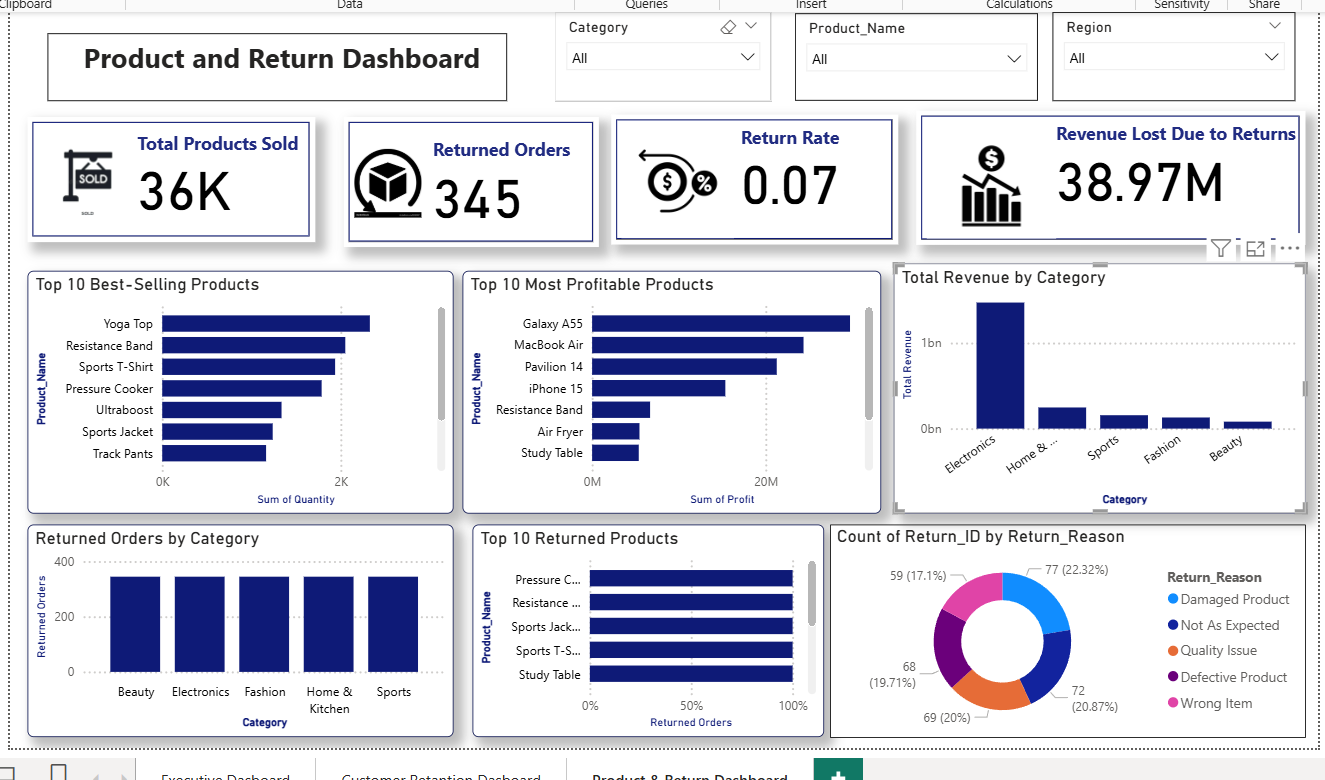

This screenshot's page, from the dashboard's own definition file:
{"tool":"powerbi","page":{"name":"Product & Return Dashboard","canvas":[1280,720],"ordinal":2},"visuals":[{"type":"textbox","box":[9.8,0,578.4,77],"z":0},{"type":"cardVisual","fields":{"Data":["Orders.Total Products Sold"]},"box":[16.9,102.6,281.8,122.1],"z":1000},{"type":"cardVisual","fields":{"Data":["Returns.Returned Orders"]},"box":[326,102.6,249.4,127.3],"z":2000},{"type":"cardVisual","fields":{"Data":["Returns.Return Rate"]},"box":[588.3,100,280.5,127.3],"z":3000},{"type":"cardVisual","fields":{"Data":["Order_Details.Revenue Lost Due to Returns"]},"box":[887,96.1,380.5,131.2],"z":4000},{"type":"textbox","box":[36.4,20.8,449.4,66.2],"z":5000},{"type":"clusteredBarChart","title":"Top 10 Best-Selling Products","fields":{"Category":["Products.Product_Name"],"Y":["Sum(Order_Details.Quantity)"]},"box":[16.9,253.2,416.9,237.7],"z":6000},{"type":"clusteredBarChart","title":"Top 10 Most Profitable Products","fields":{"Category":["Products.Product_Name"],"Y":["Sum(Order_Details.Profit)"]},"box":[451.9,253.2,393.5,220.8],"z":7000},{"type":"clusteredColumnChart","fields":{"Category":["Products.Category"],"Y":["Order_Details.Total Revenue"]},"box":[864.9,245.5,415.6,228.6],"z":8000},{"type":"columnChart","fields":{"Category":["Products.Category"],"Y":["Returns.Returned Orders"]},"box":[17,501,417,208],"z":9000},{"type":"hundredPercentStackedBarChart","title":"Top 10 Returned Products","fields":{"Category":["Products.Product_Name"],"Y":["Returns.Returned Orders"]},"box":[451.9,501.3,344.2,207.8],"z":10000},{"type":"donutChart","fields":{"Category":["Returns.Return_Reason"],"Y":["CountNonNull(Returns.Return_ID)"]},"box":[802.6,490.9,464.9,219.5],"z":11000},{"type":"slicer","fields":{"Values":["Products.Category"]},"box":[533.8,0,211.7,87],"z":12000},{"type":"slicer","fields":{"Values":["Products.Product_Name"]},"box":[767.5,1.3,237.7,85.7],"z":13000},{"type":"slicer","fields":{"Values":["Orders.Region"]},"box":[1019.5,0,237.7,87],"z":14000}]}

Visuals, with their boxes on the page's 1280x720 design canvas (x1, y1, x2, y2). These are canvas units, not pixel positions in the 1325x780 screenshot, which may show the page scaled, cropped or inside an application window:
textbox: {"x1": 10, "y1": 0, "x2": 588, "y2": 77}
cardVisual - Orders.Total Products Sold: {"x1": 17, "y1": 103, "x2": 299, "y2": 225}
cardVisual - Returns.Returned Orders: {"x1": 326, "y1": 103, "x2": 575, "y2": 230}
cardVisual - Returns.Return Rate: {"x1": 588, "y1": 100, "x2": 869, "y2": 227}
cardVisual - Order_Details.Revenue Lost Due to Returns: {"x1": 887, "y1": 96, "x2": 1268, "y2": 227}
textbox: {"x1": 36, "y1": 21, "x2": 486, "y2": 87}
"Top 10 Best-Selling Products" clusteredBarChart: {"x1": 17, "y1": 253, "x2": 434, "y2": 491}
"Top 10 Most Profitable Products" clusteredBarChart: {"x1": 452, "y1": 253, "x2": 845, "y2": 474}
clusteredColumnChart - Products.Category x Order_Details.Total Revenue: {"x1": 865, "y1": 246, "x2": 1280, "y2": 474}
columnChart - Products.Category x Returns.Returned Orders: {"x1": 17, "y1": 501, "x2": 434, "y2": 709}
"Top 10 Returned Products" hundredPercentStackedBarChart: {"x1": 452, "y1": 501, "x2": 796, "y2": 709}
donutChart - Returns.Return_Reason x CountNonNull(Returns.Return_ID): {"x1": 803, "y1": 491, "x2": 1268, "y2": 710}
slicer - Products.Category: {"x1": 534, "y1": 0, "x2": 746, "y2": 87}
slicer - Products.Product_Name: {"x1": 768, "y1": 1, "x2": 1005, "y2": 87}
slicer - Orders.Region: {"x1": 1020, "y1": 0, "x2": 1257, "y2": 87}
